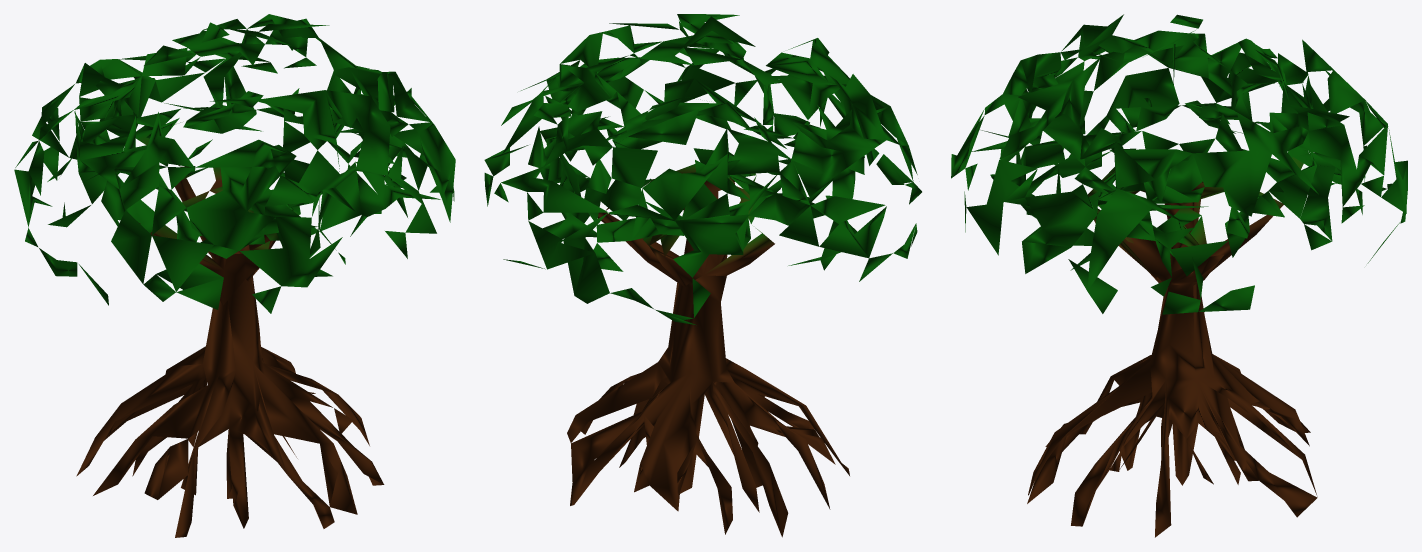
The model's file is gen3d-mangrove-tree-lod1.glb.
3 renders of one model, left to right at view 1: azimuth 30°, elevation 25°; view 2: azimuth 150°, elevation 25°; view 3: azimuth 270°, elevation 25°, orthographic. The views are drawn at different scales.
Parts seen in each view (by area): view 1: part_0; view 2: part_0; view 3: part_0.
Boxes of the visible parts, box(x1,y1,x2,y2) form: part_0: box(14, 14, 455, 537); part_0: box(484, 14, 921, 537); part_0: box(951, 14, 1407, 537).
Size of the model in its own units: 0.9056 by 0.9851 by 0.8845.
